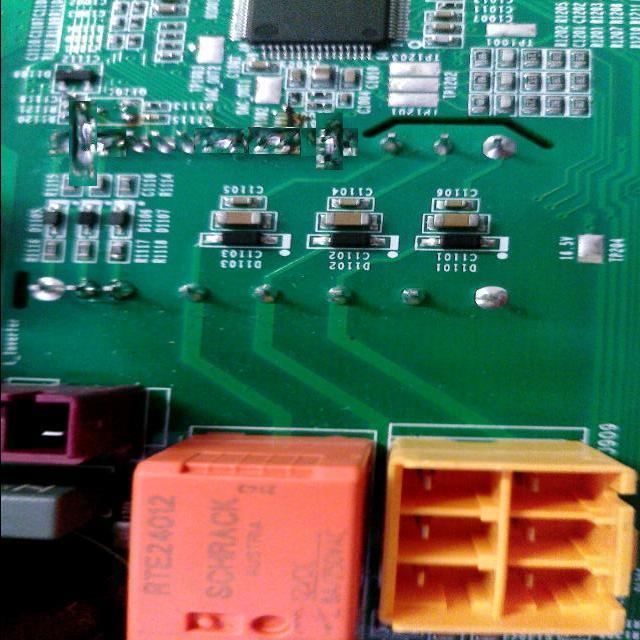Short_circuit: (55, 115, 111, 172), (308, 121, 351, 163), (248, 127, 300, 154), (194, 128, 244, 154)
